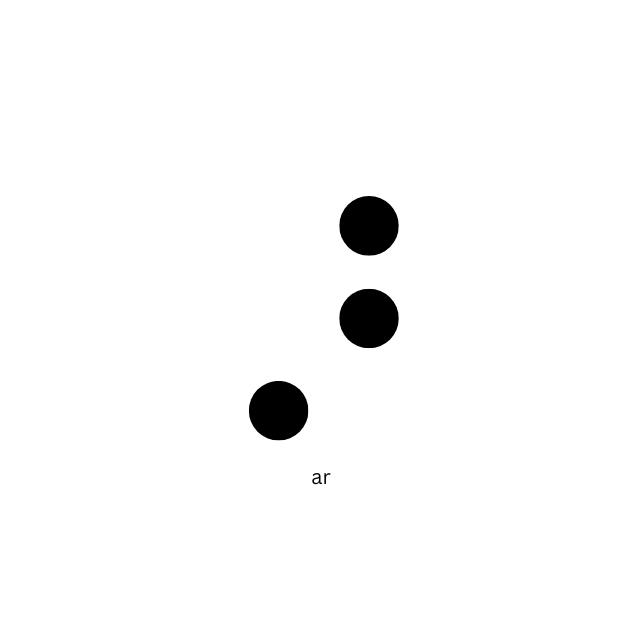one_cell_part_word_ar: (250, 197, 399, 442)
